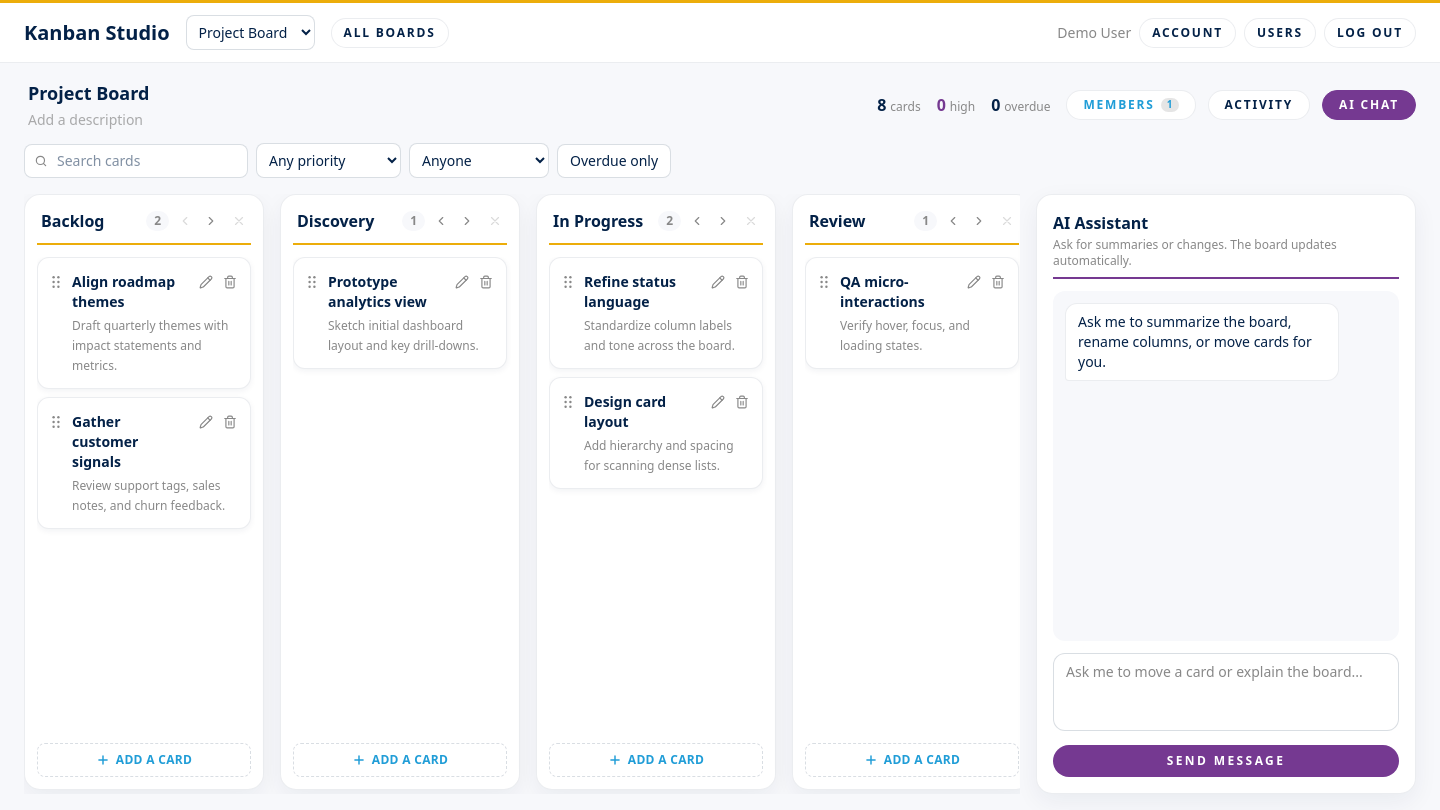
Test: Workspace › deletes a board after confirmation
Click the button "All boards".
click(390, 32)  # box 331,18 -> 449,48
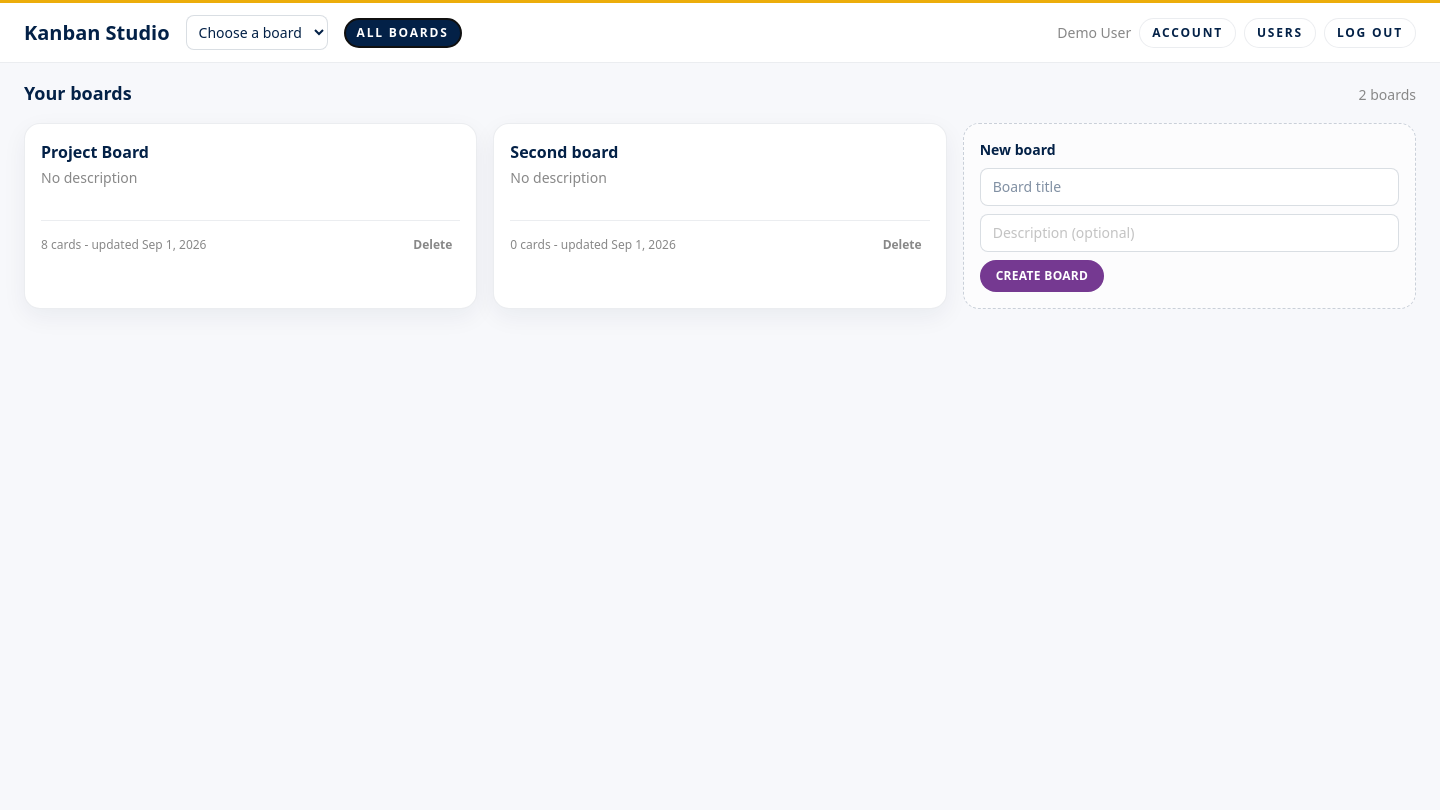
Click the button with aria-label "Delete board Second board".
click(902, 245)  # box 875,233 -> 930,257
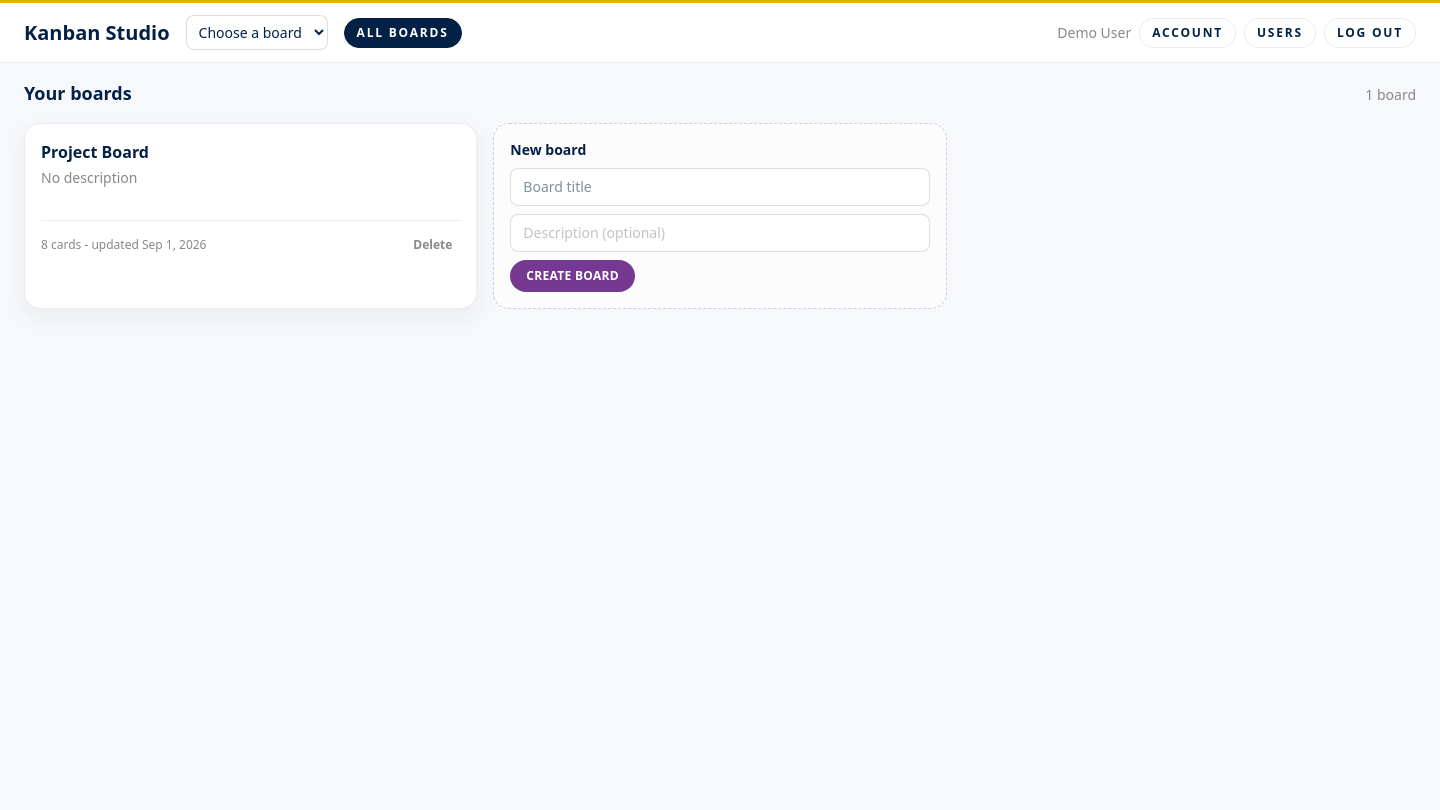
Expected: the list item with test id "board-tile-board-2" is gone
